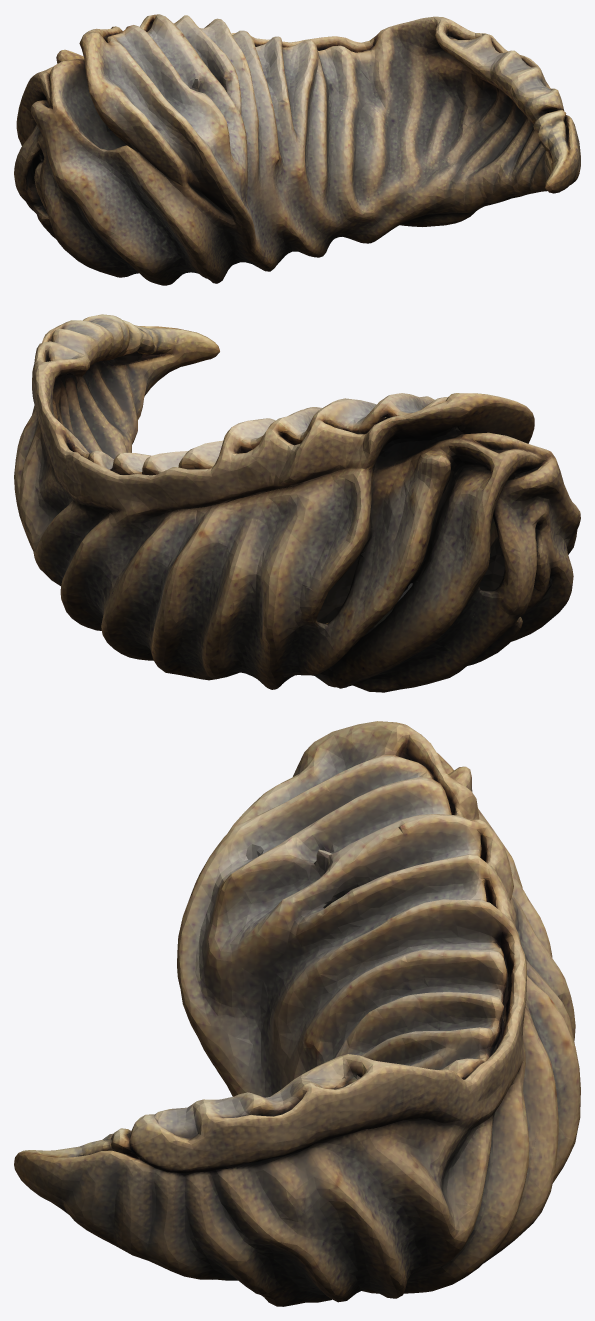
3 views of the same model, one above another, from view 1: azimuth 30°, elevation 25°; view 2: azimuth 150°, elevation 25°; view 3: azimuth 270°, elevation 25° (orthographic). The views are drawn at different scales.
Parts seen in each view (by area): view 1: world; view 2: world; view 3: world.
Part boxes in pixels (bbox=[...]): world: bbox=[14, 14, 580, 285]; world: bbox=[14, 314, 580, 692]; world: bbox=[14, 721, 580, 1306].
Size of the model in its own units: 1 by 0.5612 by 0.7346.
1 material, 1 textured.
